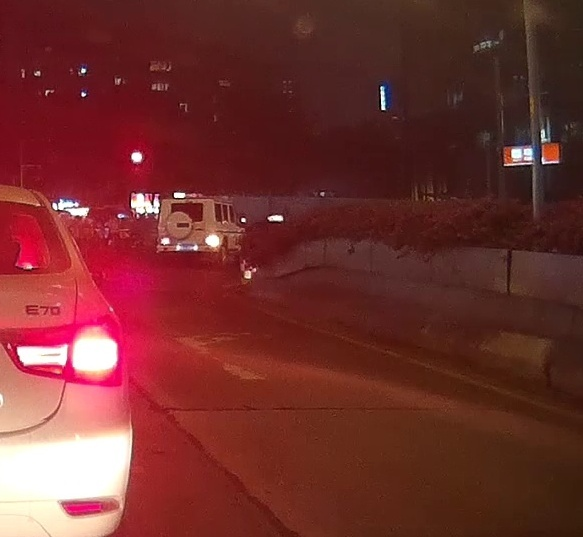L_light: (159, 237, 170, 245)
R_light: (205, 236, 219, 246)
T_light: (182, 202, 192, 207)
night-right: (156, 198, 219, 268)
